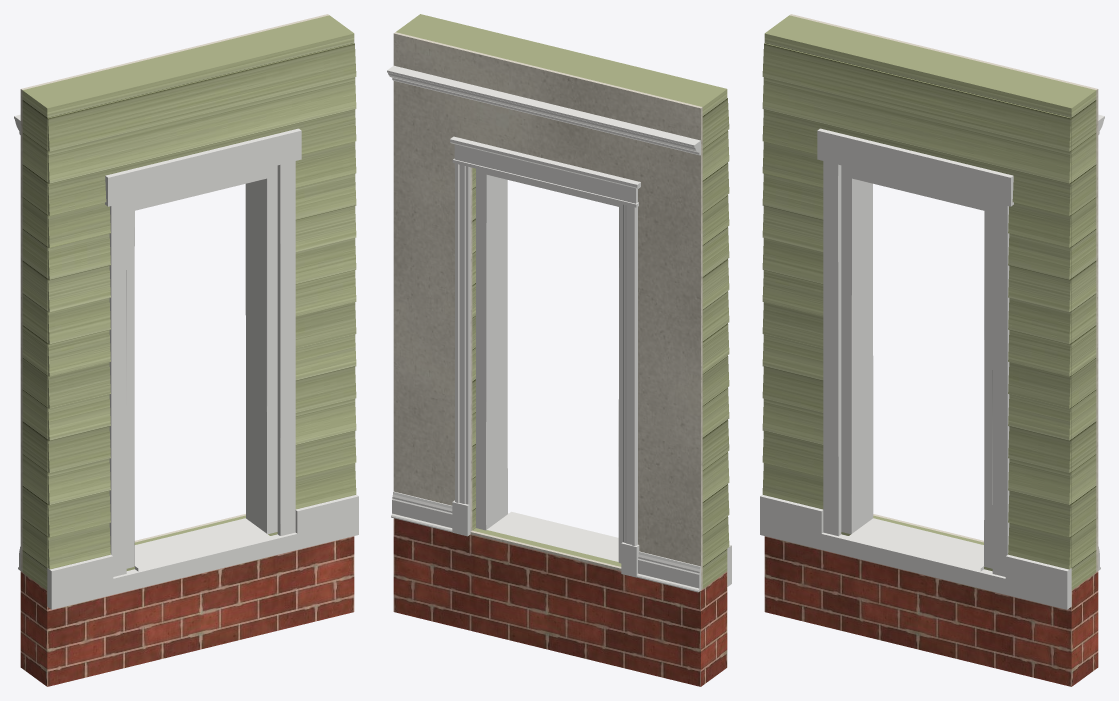
The model's file is wall_siding_door.glb.
3 renders of one model, left to right at view 1: azimuth 30°, elevation 25°; view 2: azimuth 150°, elevation 25°; view 3: azimuth 330°, elevation 25°, orthographic.
Visible parts, largest first — view 1: wall_siding_door_siding, wall_siding_door_trim, wall_siding_door_brick, wall_siding_door_frame, wall_siding_door_plaster; view 2: wall_siding_door_plaster, wall_siding_door_brick, molduras, wall_siding_door_siding, wall_siding_door_frame, wall_siding_door_trim; view 3: wall_siding_door_siding, wall_siding_door_trim, wall_siding_door_brick, wall_siding_door_frame, wall_siding_door_plaster.
Boxes of the visible parts, x1,y1,x2,y2 form: wall_siding_door_siding: [22, 15, 356, 589]; wall_siding_door_trim: [47, 128, 358, 609]; wall_siding_door_brick: [20, 536, 354, 686]; wall_siding_door_frame: [126, 165, 277, 568]; wall_siding_door_plaster: [20, 14, 328, 571]; wall_siding_door_plaster: [393, 32, 702, 589]; wall_siding_door_brick: [393, 518, 727, 686]; molduras: [387, 65, 700, 592]; wall_siding_door_siding: [396, 14, 729, 588]; wall_siding_door_frame: [476, 168, 622, 563]; wall_siding_door_trim: [487, 511, 731, 586]; wall_siding_door_siding: [762, 15, 1096, 589]; wall_siding_door_trim: [760, 128, 1071, 609]; wall_siding_door_brick: [764, 536, 1098, 686]; wall_siding_door_frame: [841, 165, 992, 568]; wall_siding_door_plaster: [790, 14, 1098, 571].
Size of the model in its own units: 2 by 3.6 by 0.425.
Materials: 5 (3 with a texture image).
